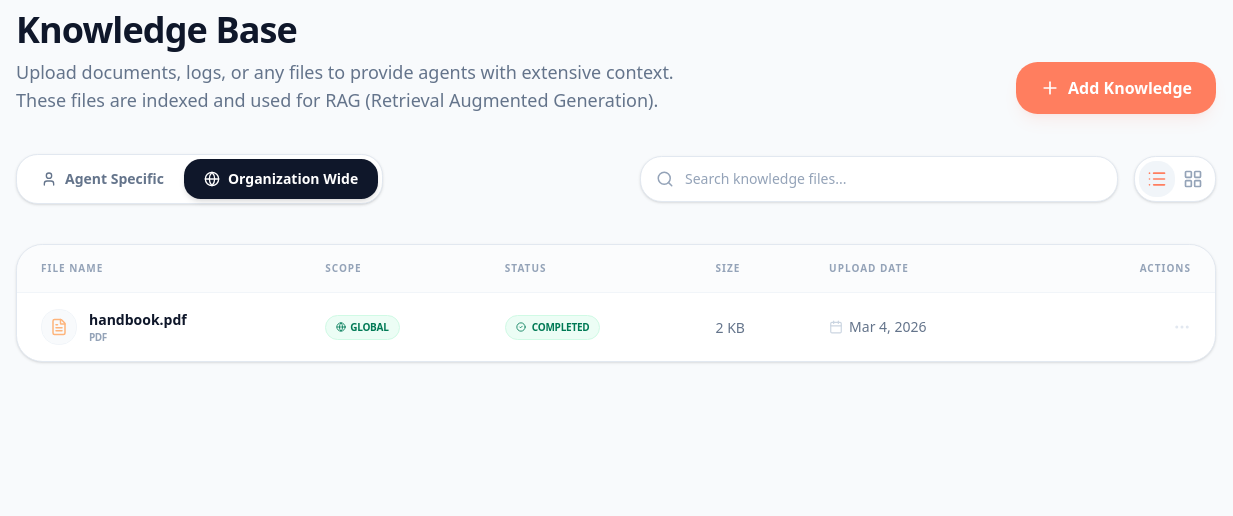
Test: the knowledge base page › the view toggle › switches to cards
The image size is (1233, 516).
Expected: the text "handbook.pdf" is shown, left=89, top=310, right=187, bottom=330
Click the button titled "Grid View": x=1193, y=179 left=1175, top=161, right=1211, bottom=197
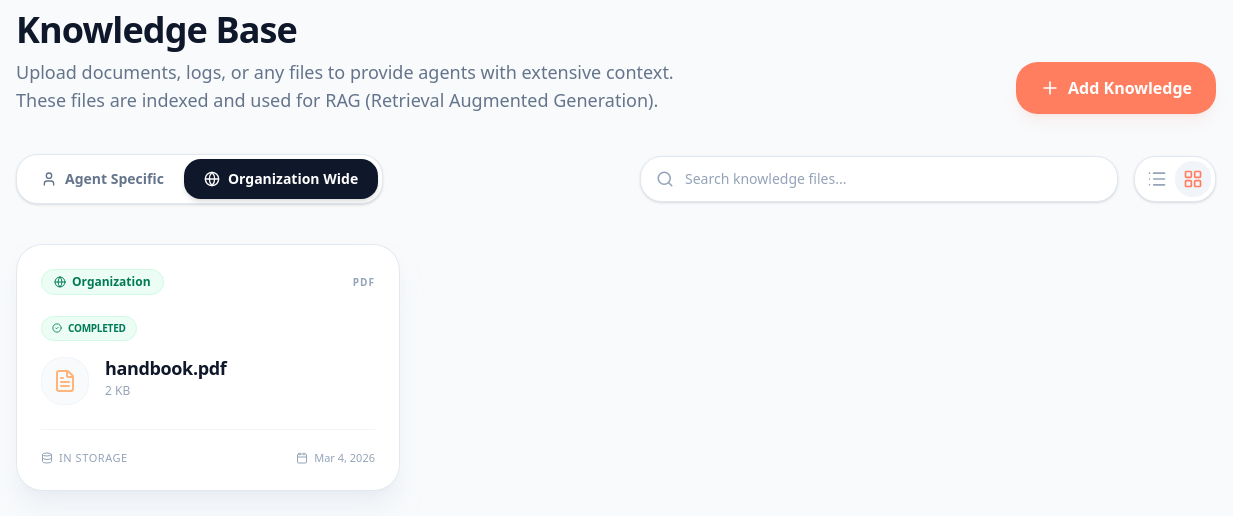
Result: the table is gone
